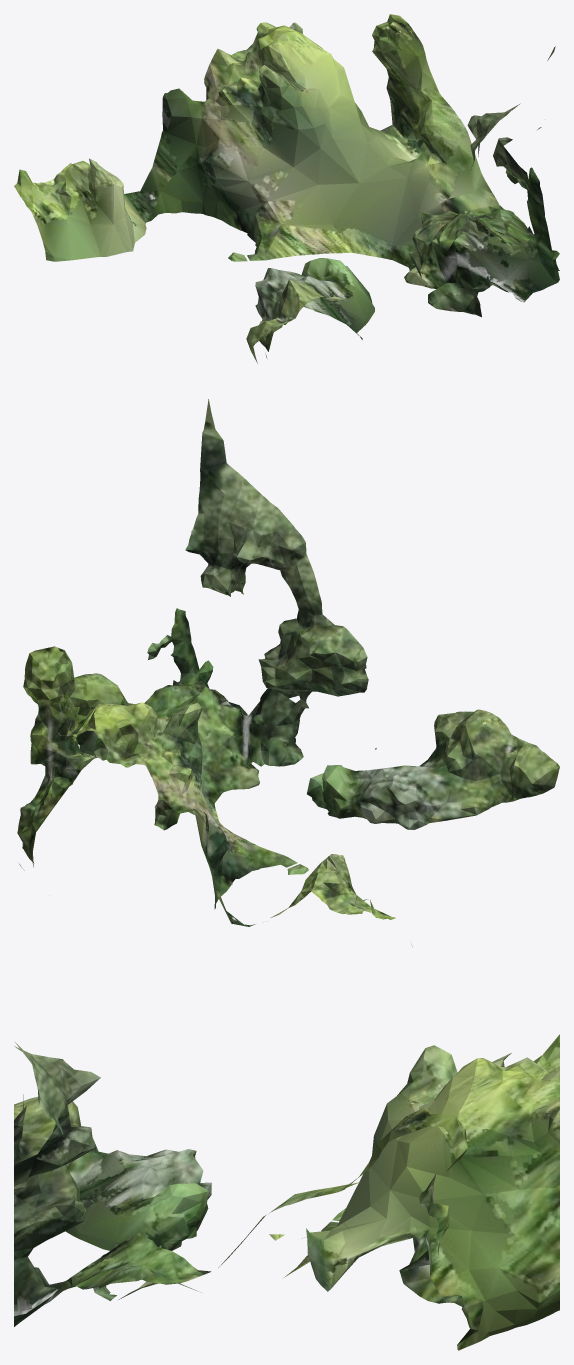
3 views of the same model, one above another, from view 1: azimuth 30°, elevation 25°; view 2: azimuth 150°, elevation 25°; view 3: azimuth 270°, elevation 25° (orthographic). The views are drawn at different scales.
Bounding box in the file's own units: 26.11 × 19.73 × 26.11.
3 materials, 3 textured.
